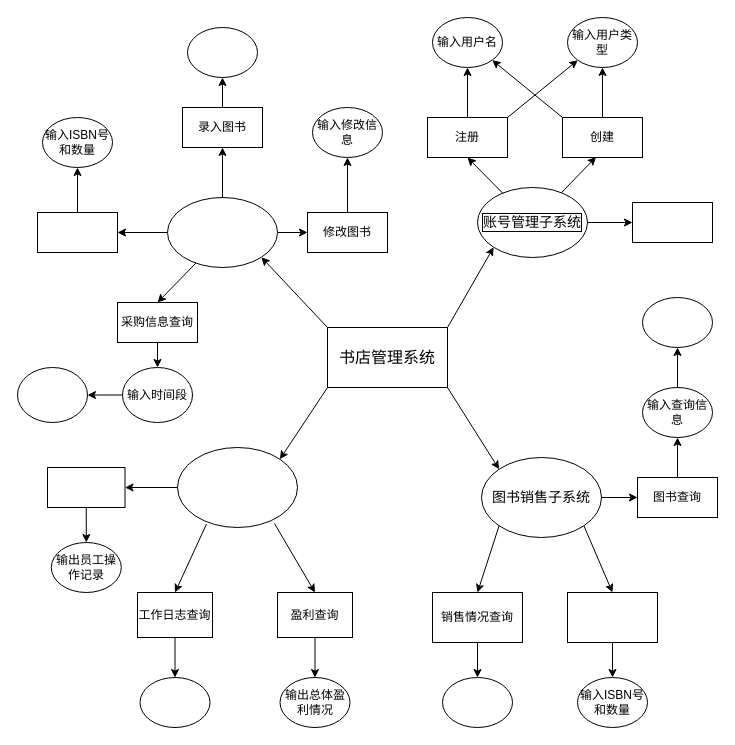
Image size: 735x745. Some labels were removed from this diagram. Here are the shapes that lost their labels. From the top down, the centre of each, then its label:
(x=222, y=52): 输入图书完整信息
(x=77, y=232): 采购
(x=222, y=232): 图书管理子系统
(x=672, y=222): 登录
(x=677, y=322): 输出图书信息
(x=52, y=394): 输出采购信息
(x=85, y=487): 员工情况查询
(x=237, y=487): 图书馆经营子系统
(x=612, y=617): 图书购买
(x=174, y=702): 输出工作日志
(x=477, y=702): 输出销售情况
